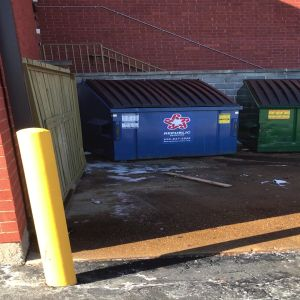Dumpster: (84, 76, 243, 161), (234, 78, 300, 151)
